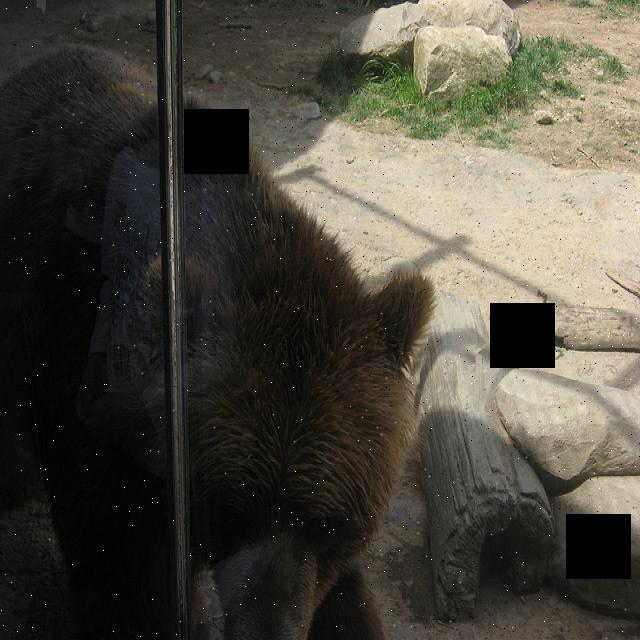Bear: (0, 37, 445, 640)
